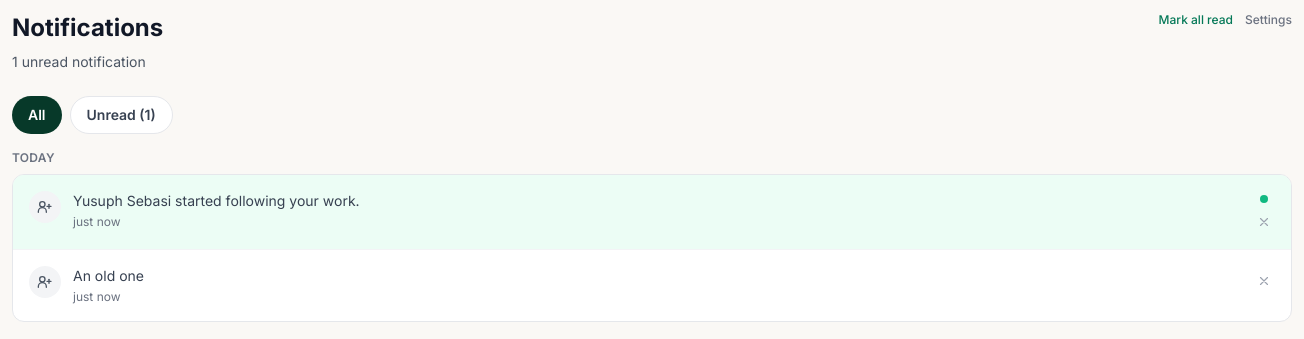
the filter row › marks the active chip for assistive technology, and filters to unread rows
Click the button "Unread (1)". click: (121, 115)
box: [70, 96, 173, 134]
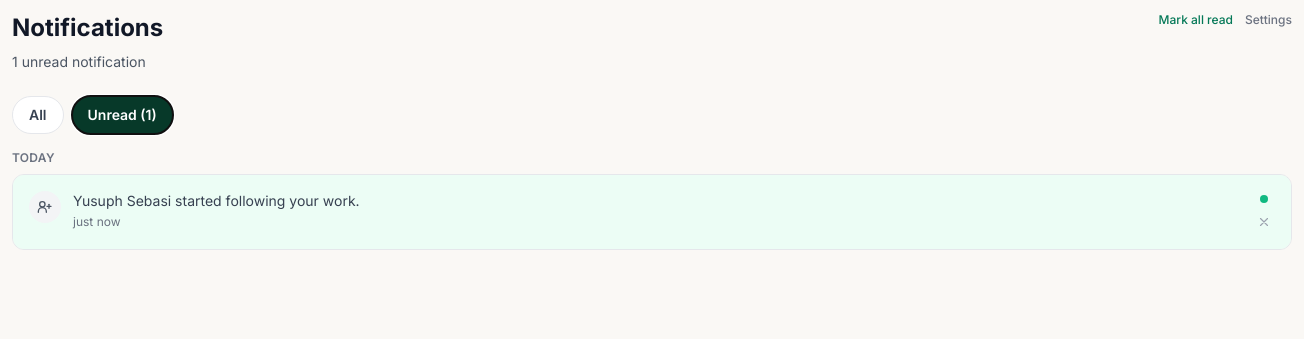
Expected: the text "Yusuph Sebasi started following your work." is shown, [73, 192, 360, 209]
Expected: the link "An old one" is gone
